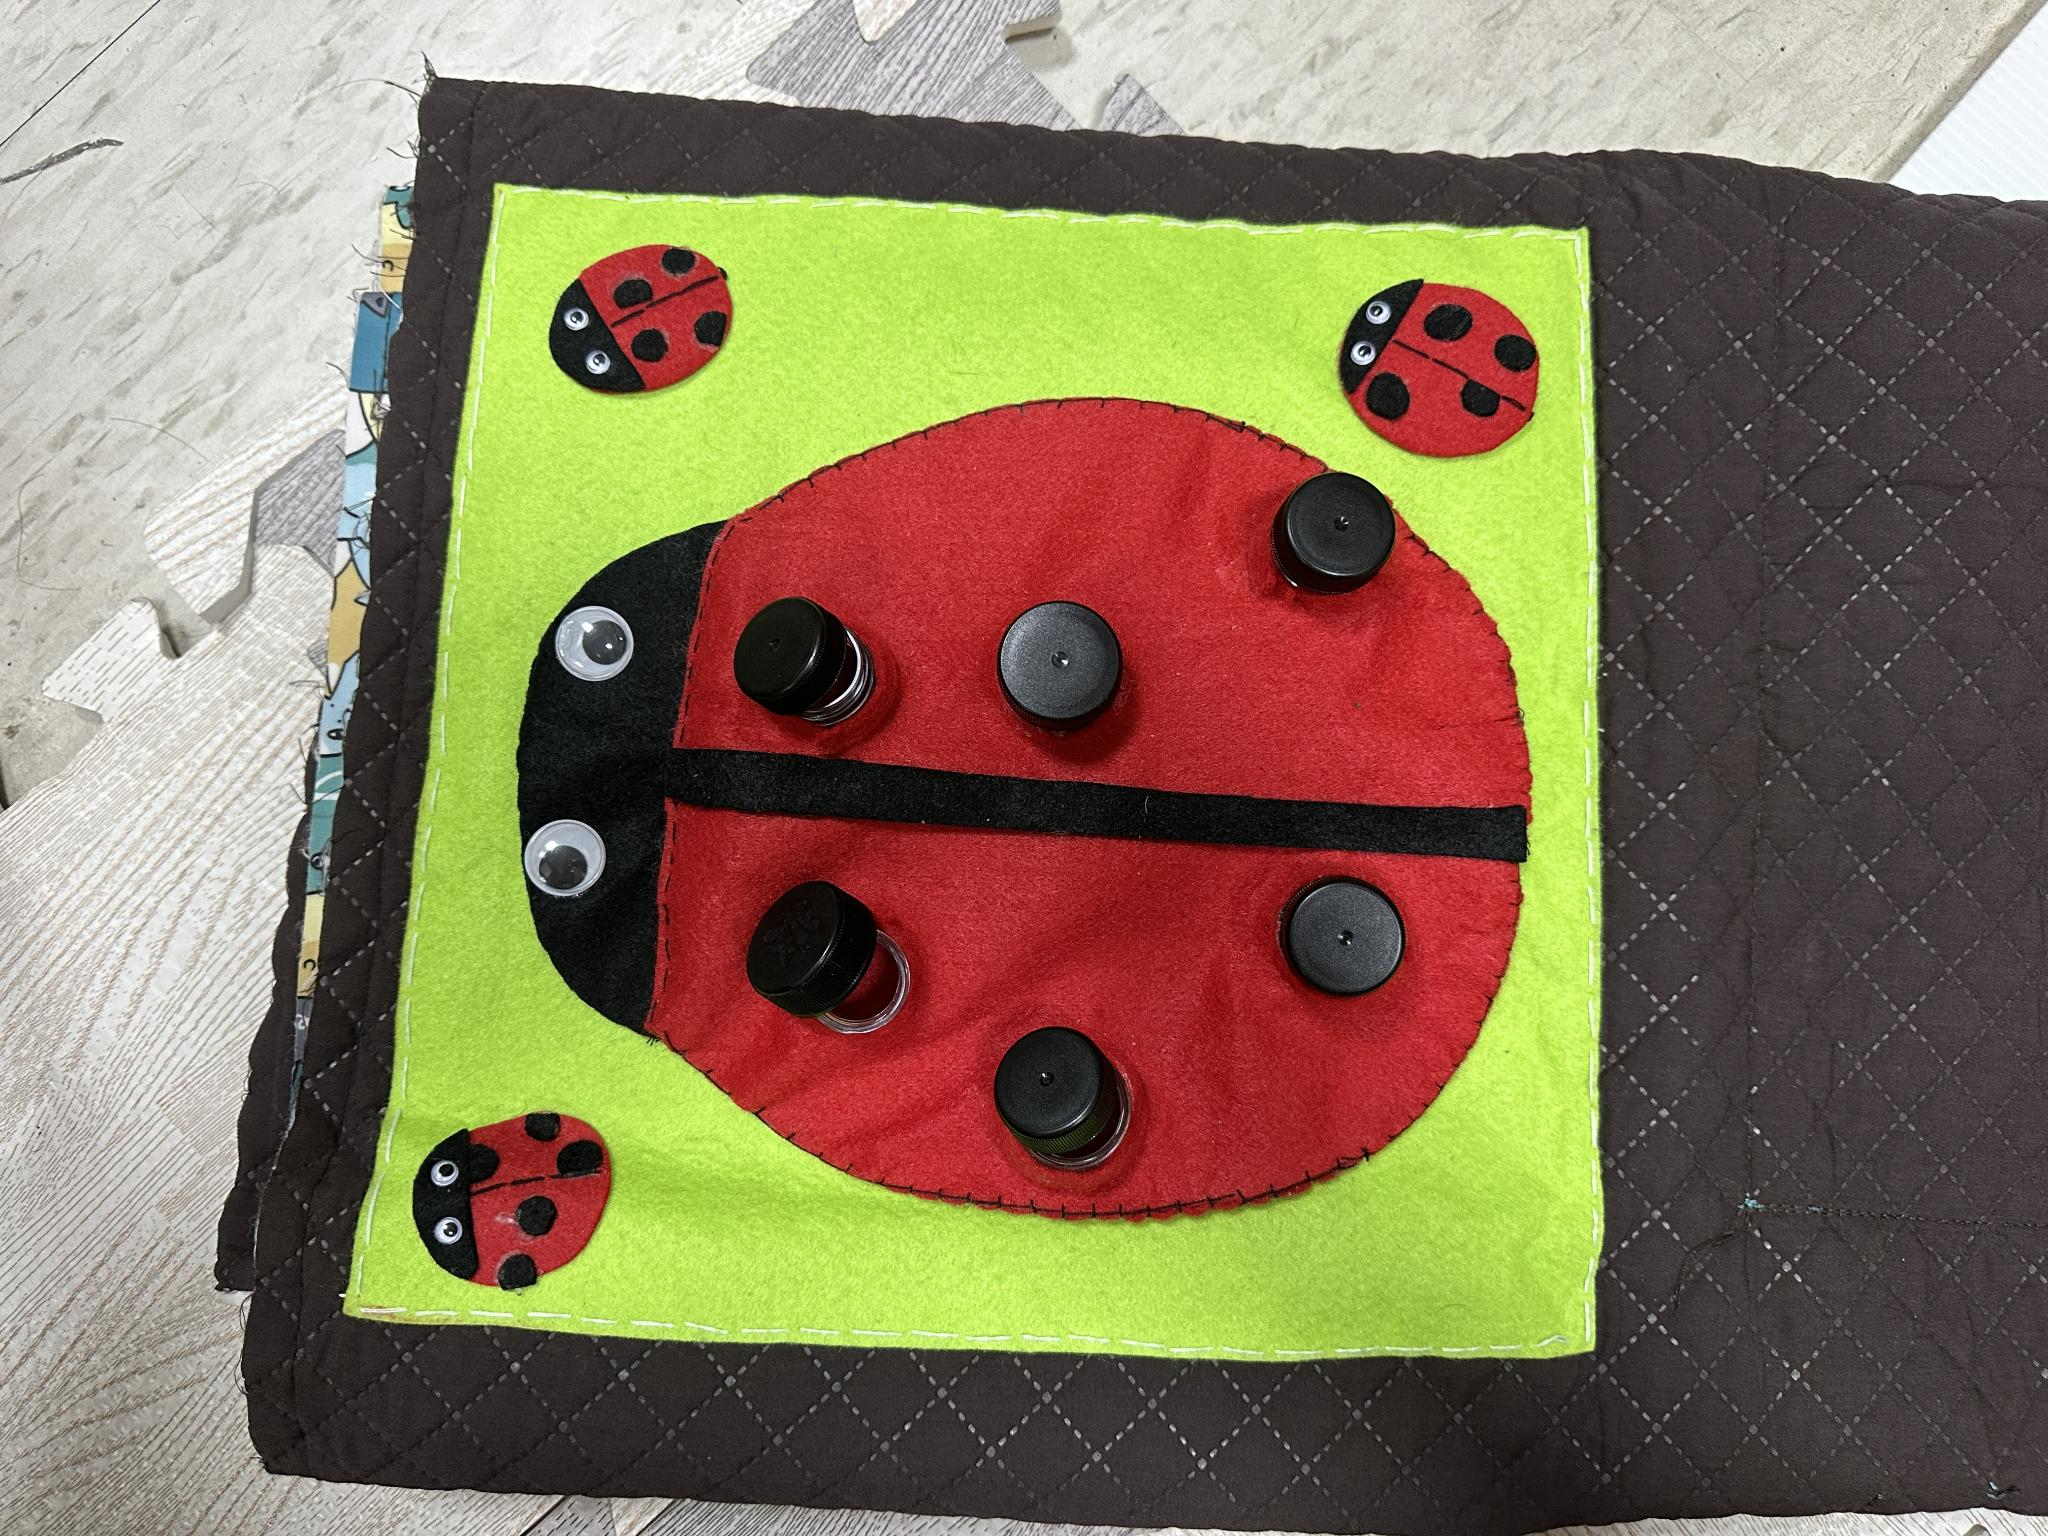cap_ng: (961, 1007, 1177, 1212), (734, 870, 951, 1073), (716, 570, 934, 766)
cap_ok: (961, 570, 1140, 753), (1247, 468, 1419, 629), (1258, 857, 1435, 1013)
